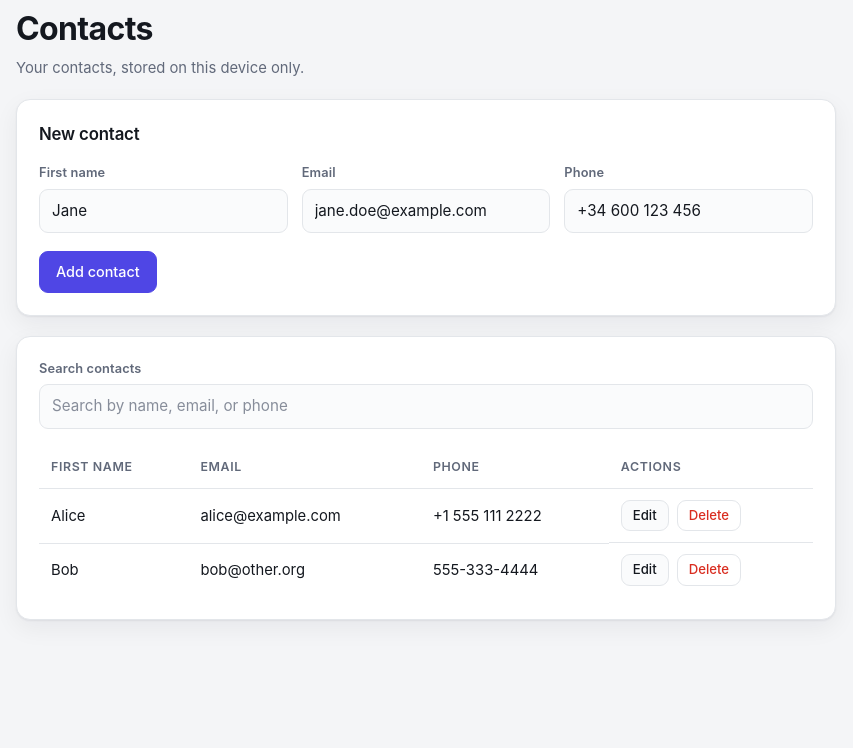
Scenario: editing a contact › populates the form, switches it to edit mode, and updates in place
Click the button "Edit" in the row of "alice@example.com": (645,515) 621,500 -> 669,531
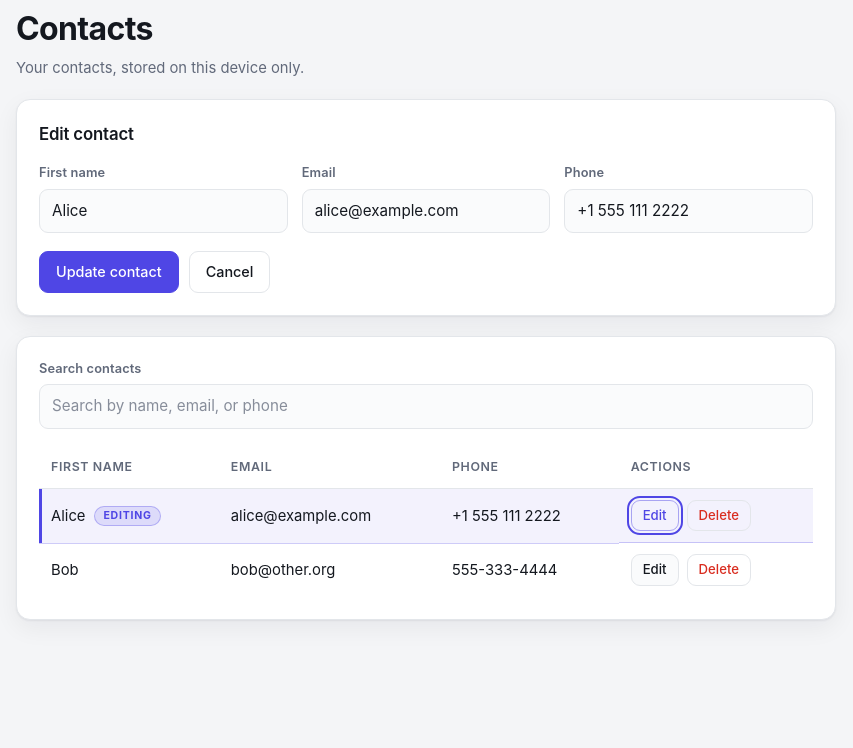
Expected: the field labelled "First name" holds "Alice", 39,189 -> 288,233
Expected: the field labelled "Email" holds "alice@example.com", 302,189 -> 550,233
Expected: the field labelled "Phone" holds "+1 555 111 2222"
Replace the text in the field labelled "Phone" with "555 999 8888": (689,211) 564,189 -> 813,233
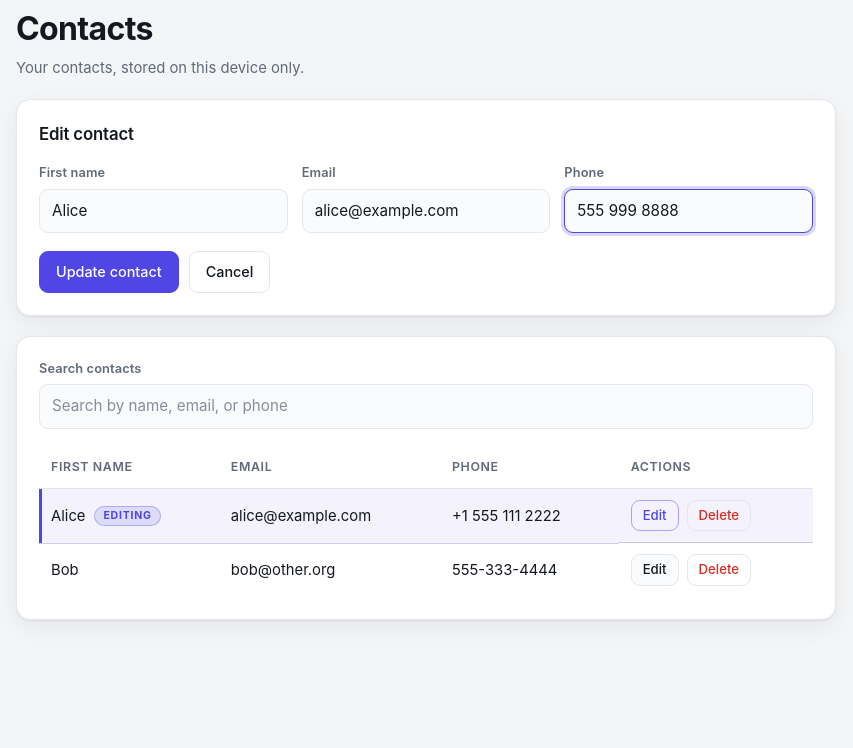
Click the button "Update contact": (109,272) 39,251 -> 179,293
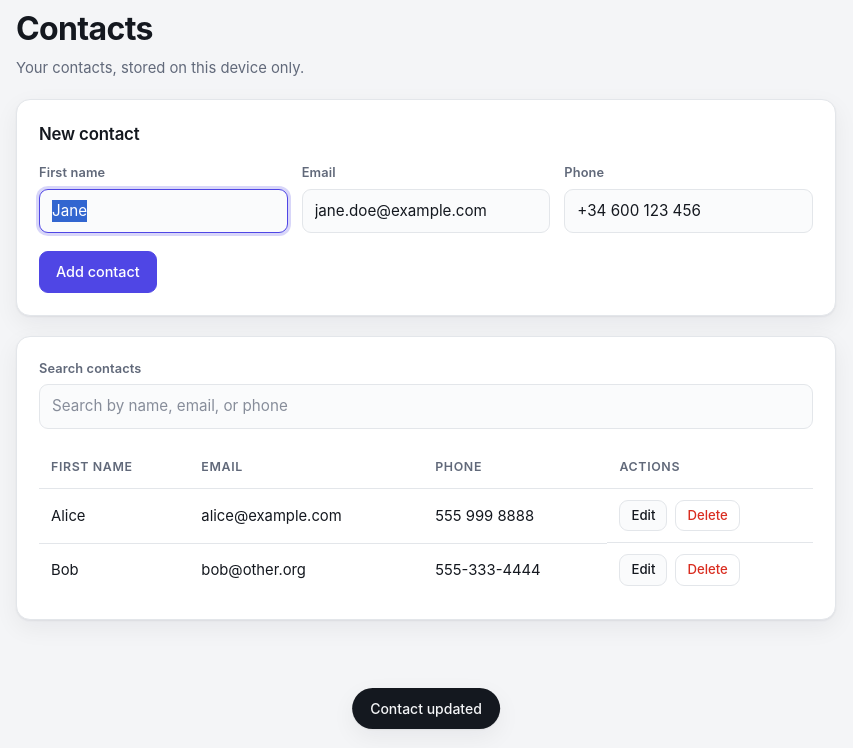
Expected: the text "555 999 8888" is shown, 423,488 -> 607,543
Expected: the number of rows is 3, 39,447 -> 813,488; 39,488 -> 813,543; 39,543 -> 813,597
Expected: the button "Add contact" is shown, 39,251 -> 157,293
